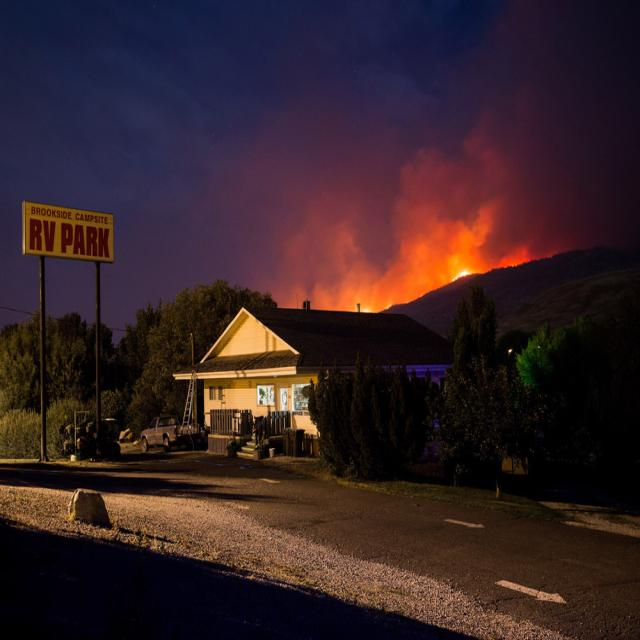Fire: (270, 216, 566, 314)
Smoke: (267, 0, 637, 288)
